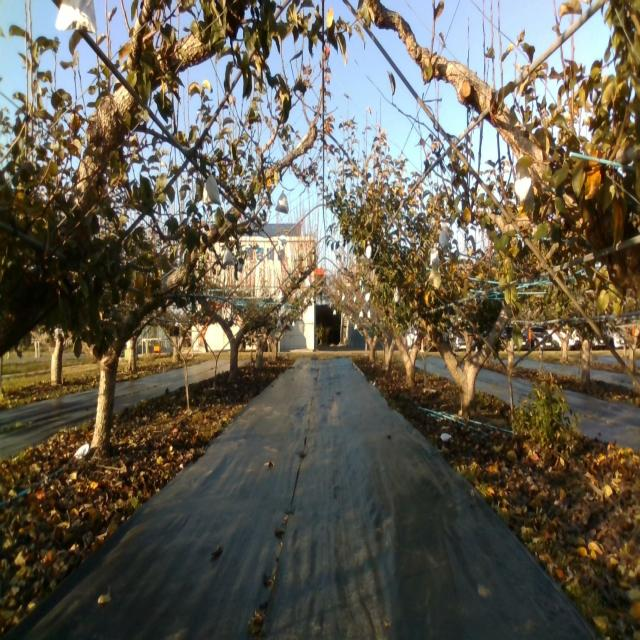pearbags: (56, 0, 97, 34), (202, 174, 220, 206), (515, 173, 533, 204), (276, 190, 288, 214), (439, 228, 449, 252), (222, 248, 234, 266)
